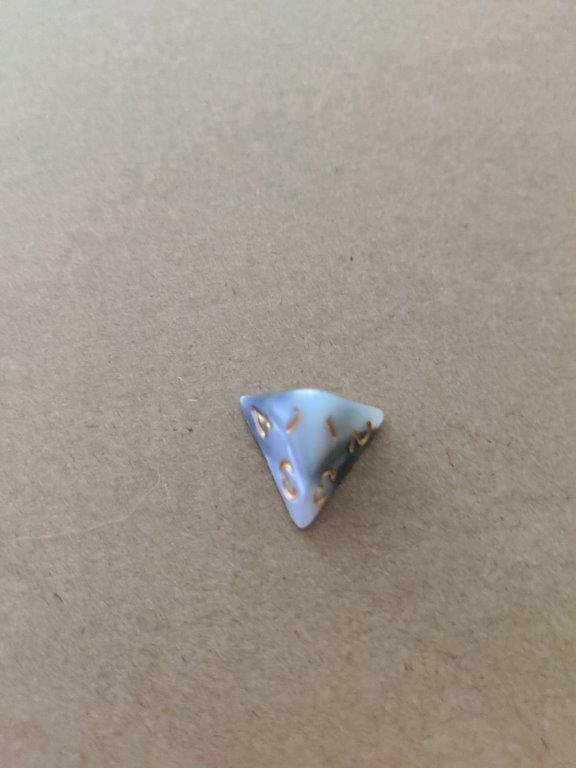d4-1: (236, 382, 389, 531)
